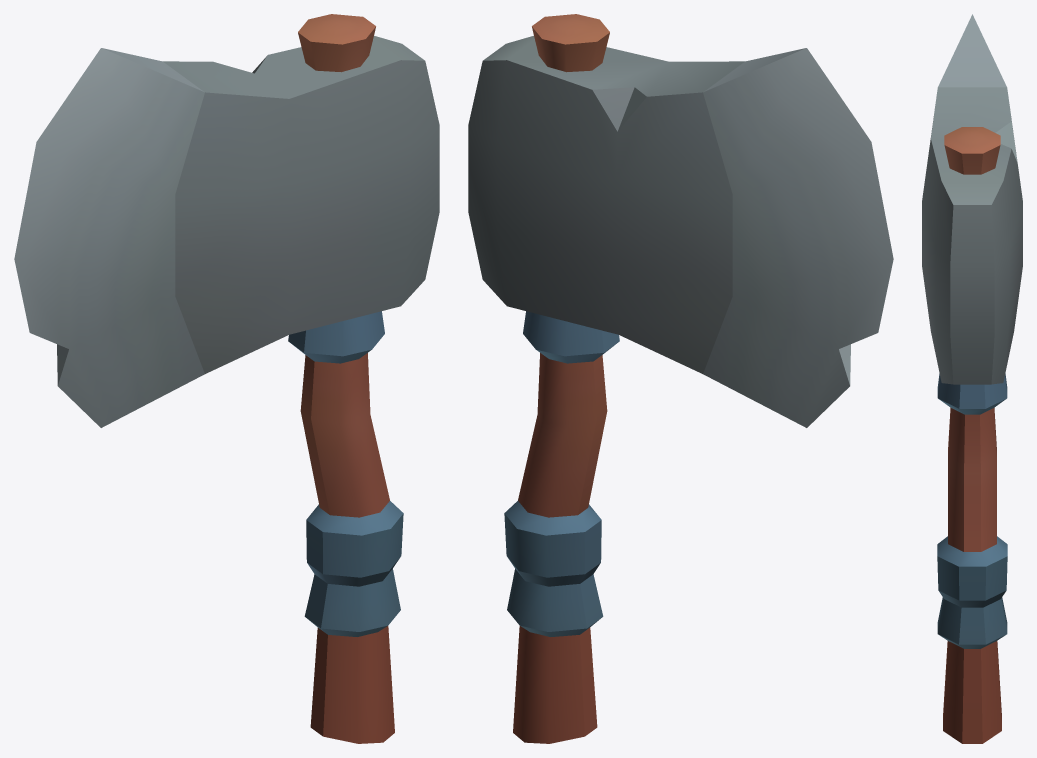
The model's file is axe_1handed.glb.
3 views of the same model, side by side, from view 1: azimuth 30°, elevation 25°; view 2: azimuth 150°, elevation 25°; view 3: azimuth 270°, elevation 25° (orthographic). The views are drawn at different scales.
Parts seen in each view (by area): view 1: axe_1handed; view 2: axe_1handed; view 3: axe_1handed.
Part boxes in pixels (left/top/right/bottom): axe_1handed: left=14, top=14, right=439, bottom=743; axe_1handed: left=468, top=14, right=893, bottom=743; axe_1handed: left=922, top=14, right=1022, bottom=743.
Size of the model in its own units: 0.7144 by 1.24 by 0.1849.
Materials: 1 (1 with a texture image).
